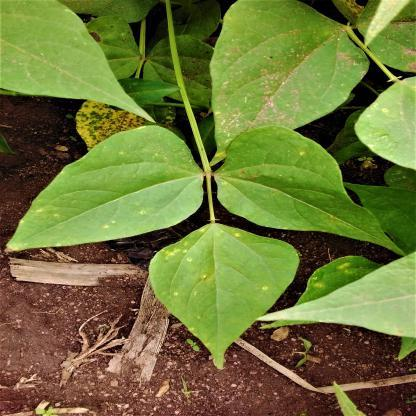Beans_Rust: (5, 124, 202, 248), (212, 128, 400, 254), (148, 222, 298, 368), (296, 255, 381, 305)
